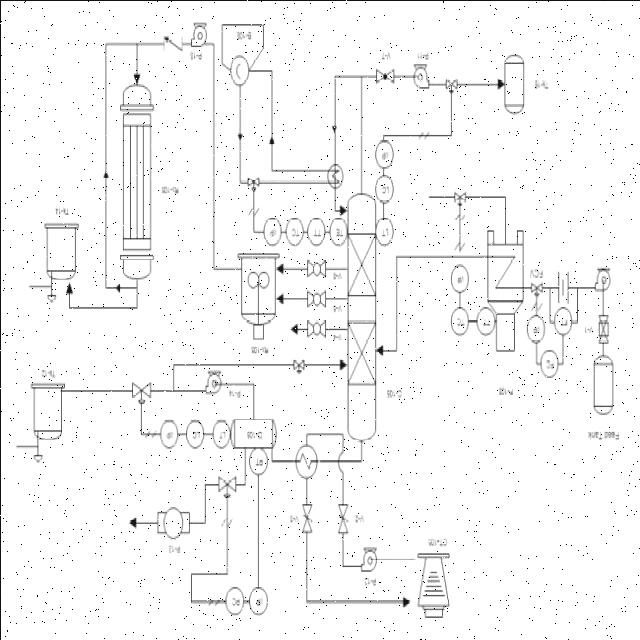Ball Valve: (302, 282, 326, 314), (304, 315, 326, 348), (302, 256, 327, 280)
Butterfly Valve: (299, 494, 315, 544), (334, 496, 350, 540)
Centrifugal Pump: (406, 59, 434, 99), (197, 367, 228, 396), (356, 542, 380, 576), (187, 17, 206, 47)
Globe Valve: (372, 64, 398, 86)
Orifice: (554, 272, 572, 312)
Plug Valve: (594, 308, 611, 351)
Pneumatic-Diaphragm Gate Valve: (120, 366, 152, 409), (214, 468, 241, 502), (240, 170, 266, 194), (288, 358, 312, 380), (448, 186, 468, 210), (524, 278, 544, 300), (442, 76, 462, 96)
